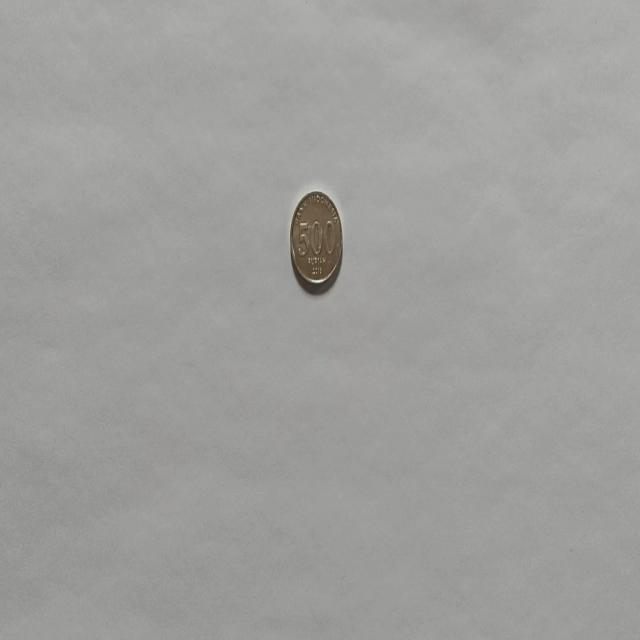lima ratus rupiah: (289, 188, 343, 288)
